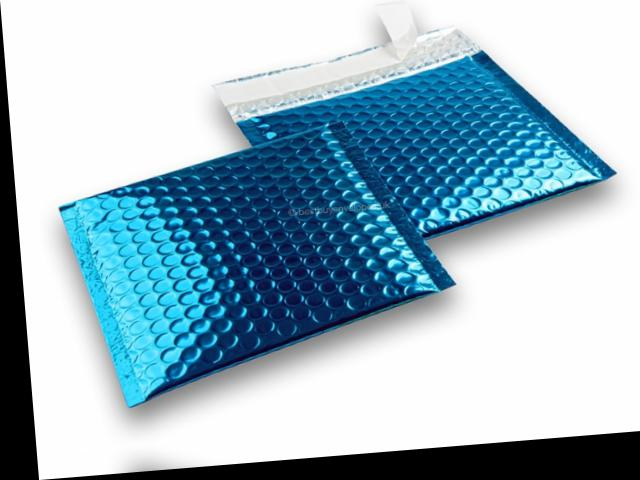package: (56, 120, 457, 408), (211, 25, 619, 239)
